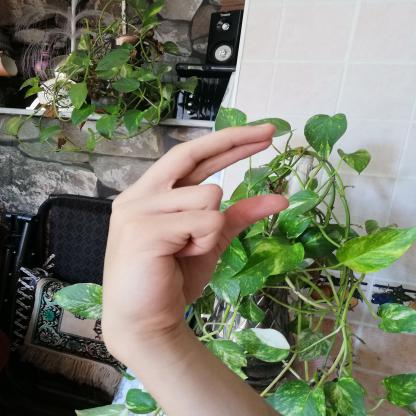DHELL: (86, 113, 298, 344)
